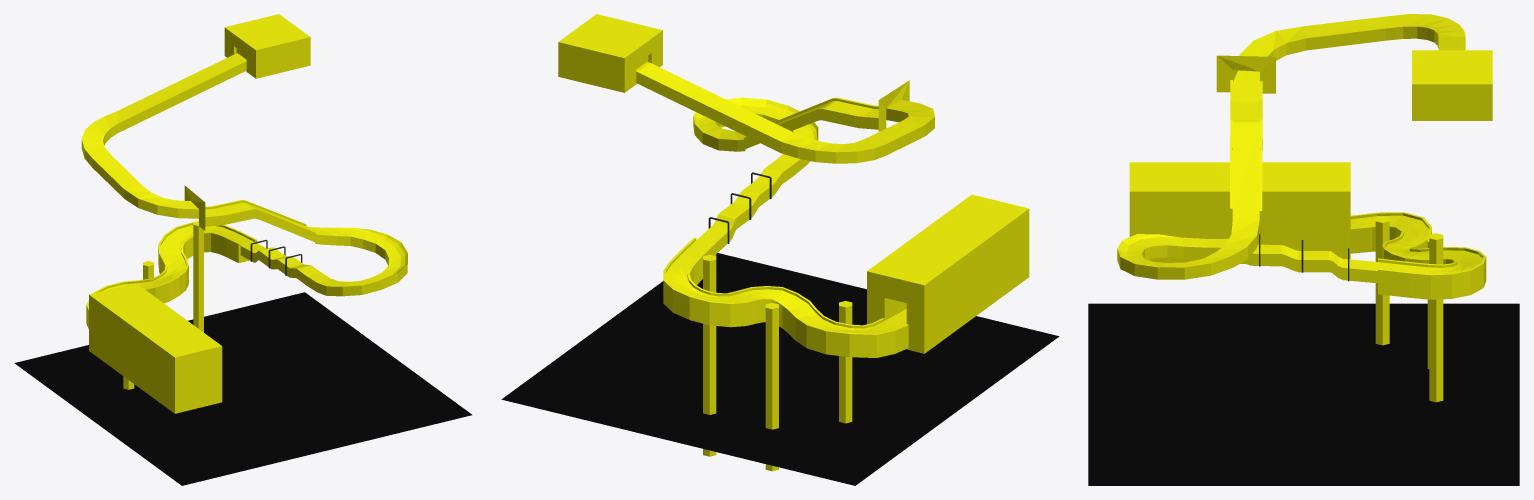
Rendered from secret_slide_segment7.0x0E490.collision.obj.
The picture shows the model from 3 angles, left to right: view 1: azimuth 30°, elevation 25°; view 2: azimuth 150°, elevation 25°; view 3: azimuth 270°, elevation 25°; orthographic projection. The views are drawn at different scales.
Parts seen in each view (by area): view 1: secret_slide_segment7_0E490_deathfloor, secret_slide_segment7_0E490_normal; view 2: secret_slide_segment7_0E490_deathfloor, secret_slide_segment7_0E490_normal; view 3: secret_slide_segment7_0E490_deathfloor, secret_slide_segment7_0E490_normal.
Boxes of the visible parts, x1,y1,x2,y2 form: secret_slide_segment7_0E490_deathfloor: (14,292,471,485); secret_slide_segment7_0E490_normal: (81,14,407,413); secret_slide_segment7_0E490_deathfloor: (501,253,1059,485); secret_slide_segment7_0E490_normal: (558,14,1029,471); secret_slide_segment7_0E490_deathfloor: (1088,303,1519,485); secret_slide_segment7_0E490_normal: (1117,14,1492,402).
Size of the model in its own units: 16 by 17.3 by 16.
